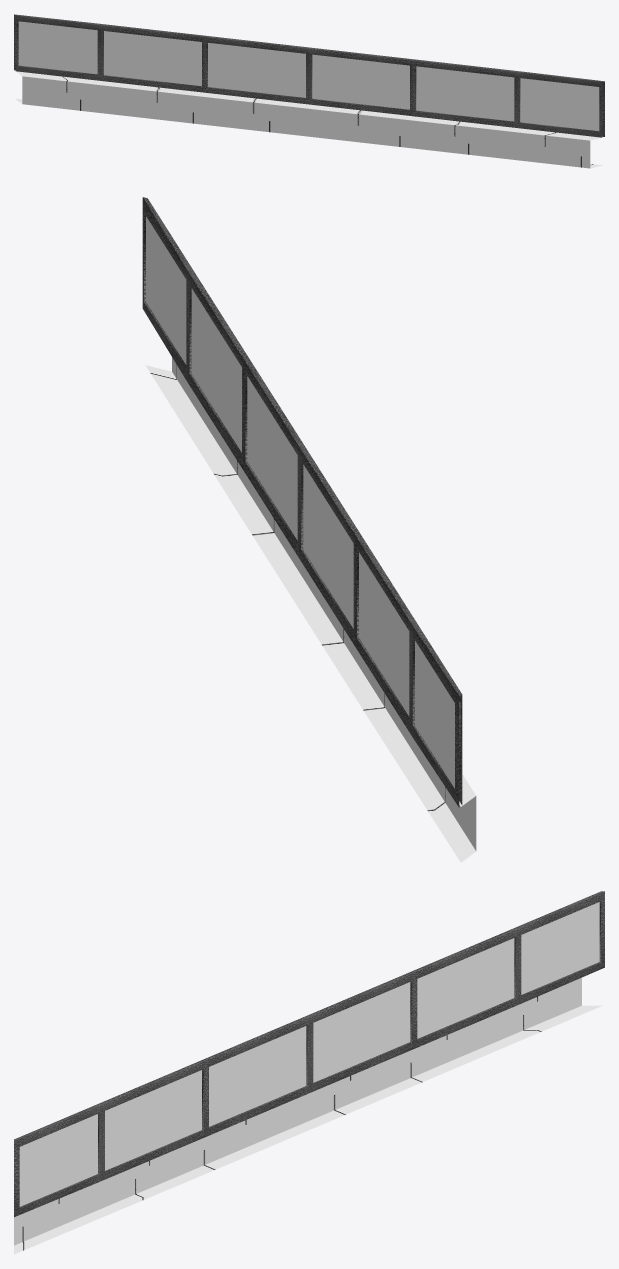
File: Parapet02_45Deg_700cm.FBX
The picture shows the model from 3 angles, top to bottom: view 1: azimuth 30°, elevation 25°; view 2: azimuth 150°, elevation 25°; view 3: azimuth 270°, elevation 25°; orthographic projection. The views are drawn at different scales.
Parts seen in each view (by area): view 1: Parapet02_45Deg_700cm; view 2: Parapet02_45Deg_700cm; view 3: Parapet02_45Deg_700cm.
Boxes of the visible parts, <box> form: Parapet02_45Deg_700cm: <box>14,14,604,168</box>; Parapet02_45Deg_700cm: <box>142,197,476,862</box>; Parapet02_45Deg_700cm: <box>14,891,604,1254</box>.
Size of the model in its own units: 703 by 150 by 703.
